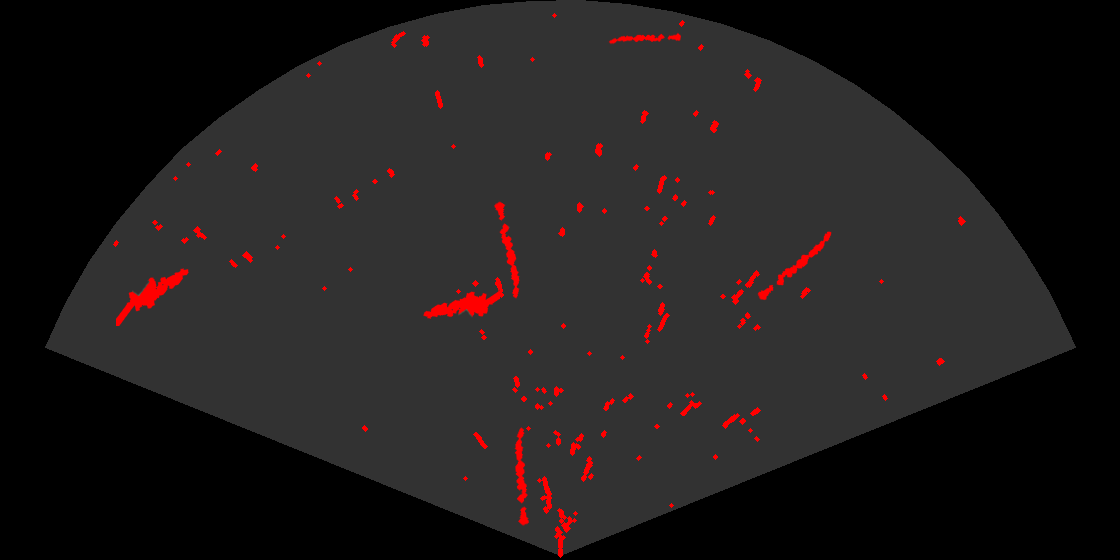chain: (756, 230, 833, 302), (493, 199, 521, 300), (513, 426, 530, 527), (607, 31, 681, 46)
frogman: (116, 267, 190, 326), (422, 289, 500, 320)
